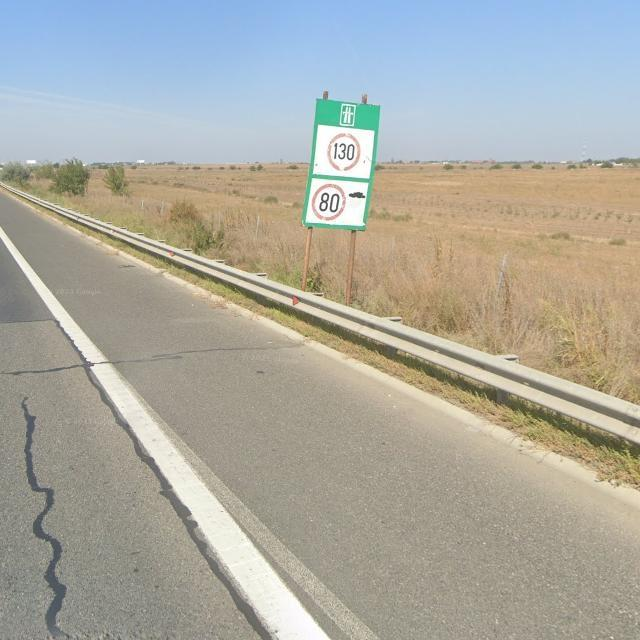forb_speed_over_80: (312, 184, 346, 221)
